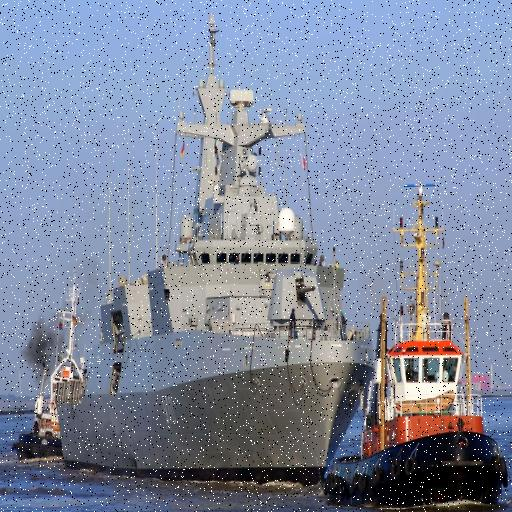Fragata: (55, 11, 382, 477)
